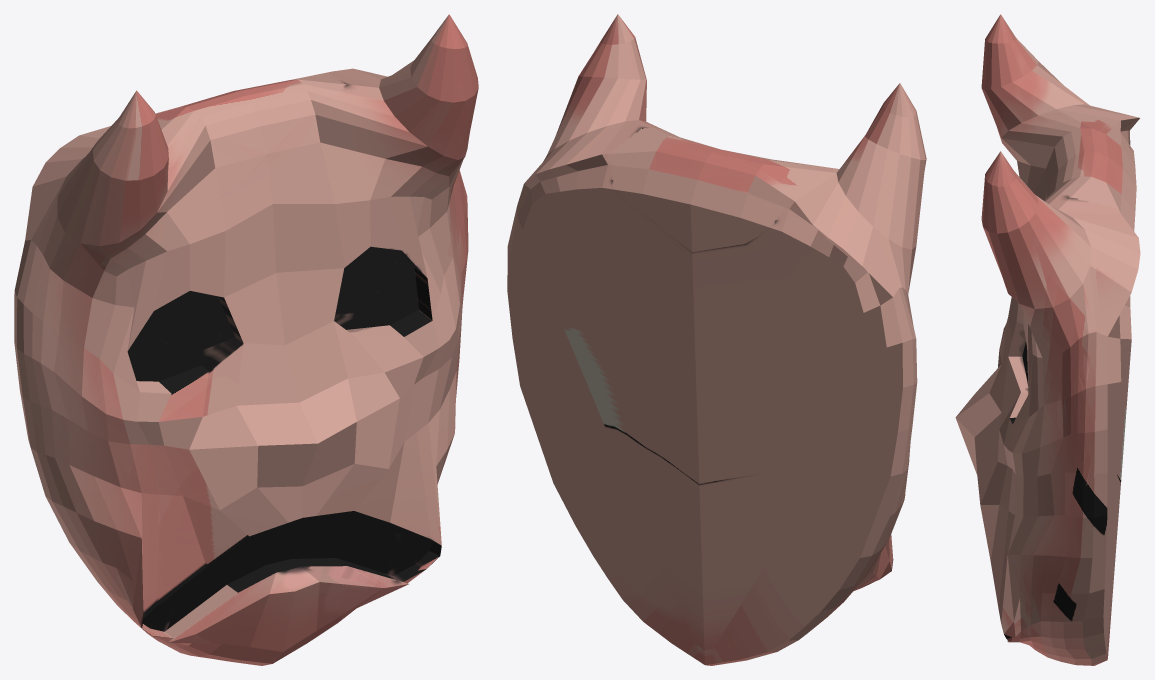
The model's file is mask.fbx.
3 renders of one model, left to right at view 1: azimuth 30°, elevation 25°; view 2: azimuth 150°, elevation 25°; view 3: azimuth 270°, elevation 25°, orthographic. The views are drawn at different scales.
Visible parts, largest first — view 1: Cube; view 2: Cube; view 3: Cube.
Boxes of the visible parts, <box> form: Cube: <box>14,14,478,665</box>; Cube: <box>507,14,926,665</box>; Cube: <box>955,14,1140,665</box>.
Size of the model in its own units: 347 by 478 by 138.
1 material, 1 textured.
